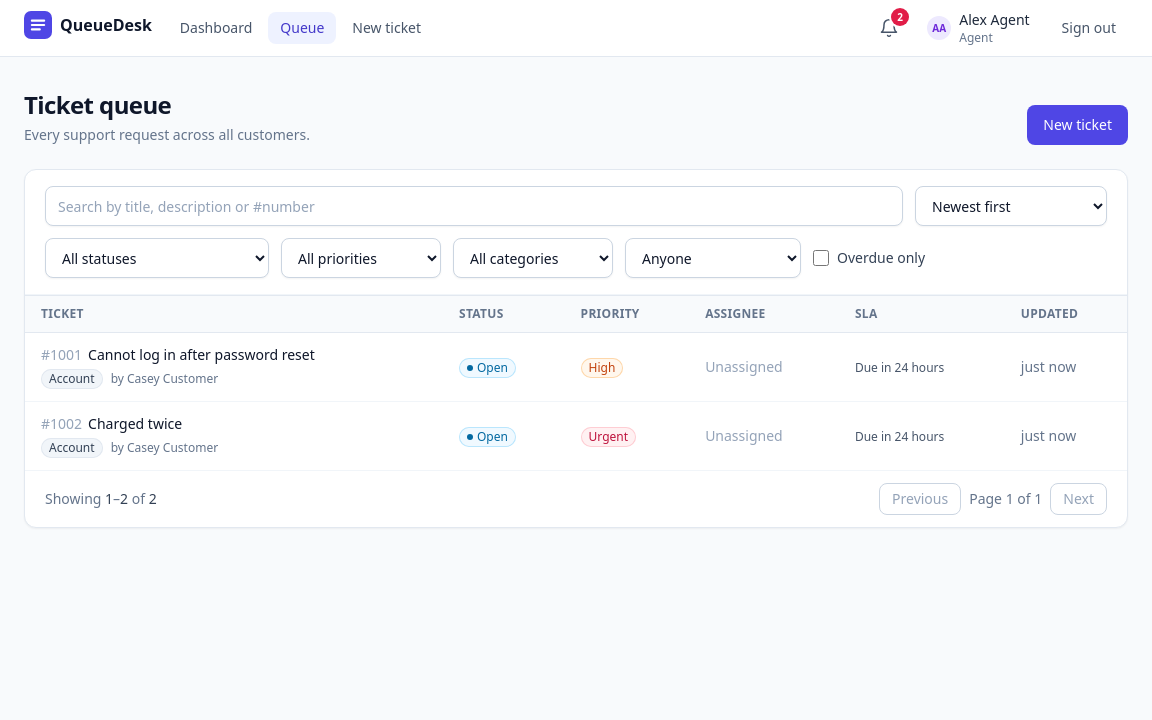
Test: notification bell › opens a panel listing notifications and filters to unread
Click the button named "notifications, 2 unread": (889, 28) x1=871 y1=10 x2=907 y2=46
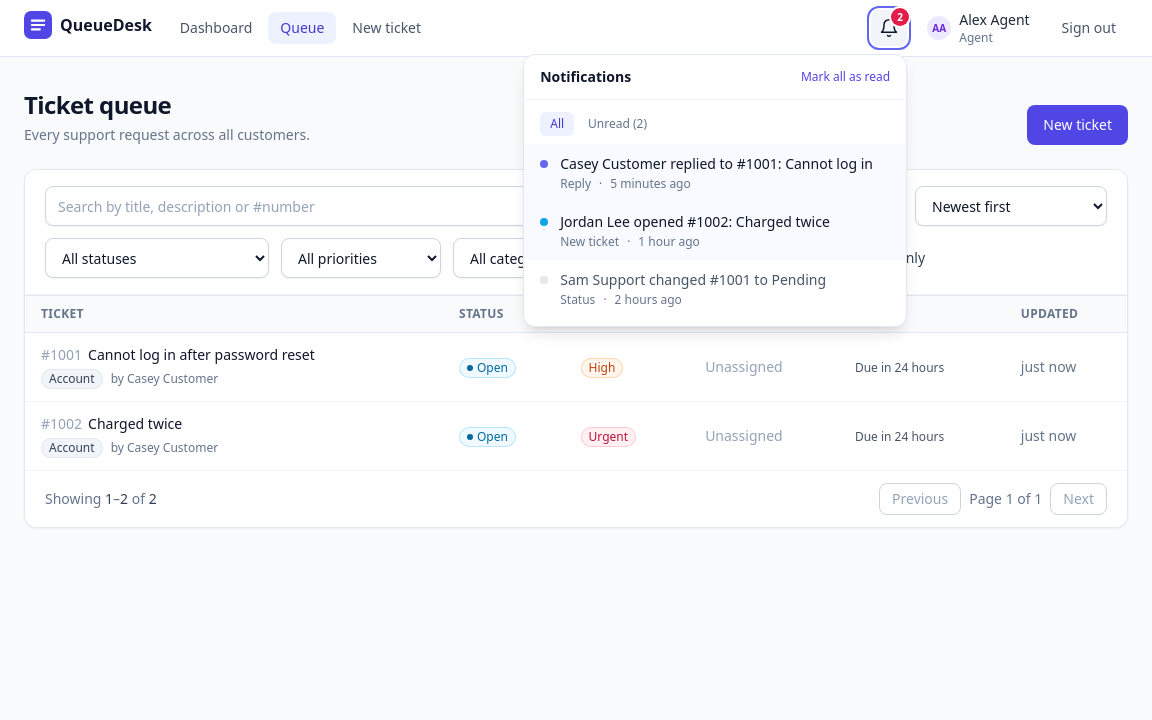
Expected: the number of list items is 3, x1=524 y1=144 x2=906 y2=202; x1=524 y1=202 x2=906 y2=260; x1=524 y1=260 x2=906 y2=318
Click the tab "Unread (2)": (618, 124) x1=578 y1=112 x2=657 y2=136
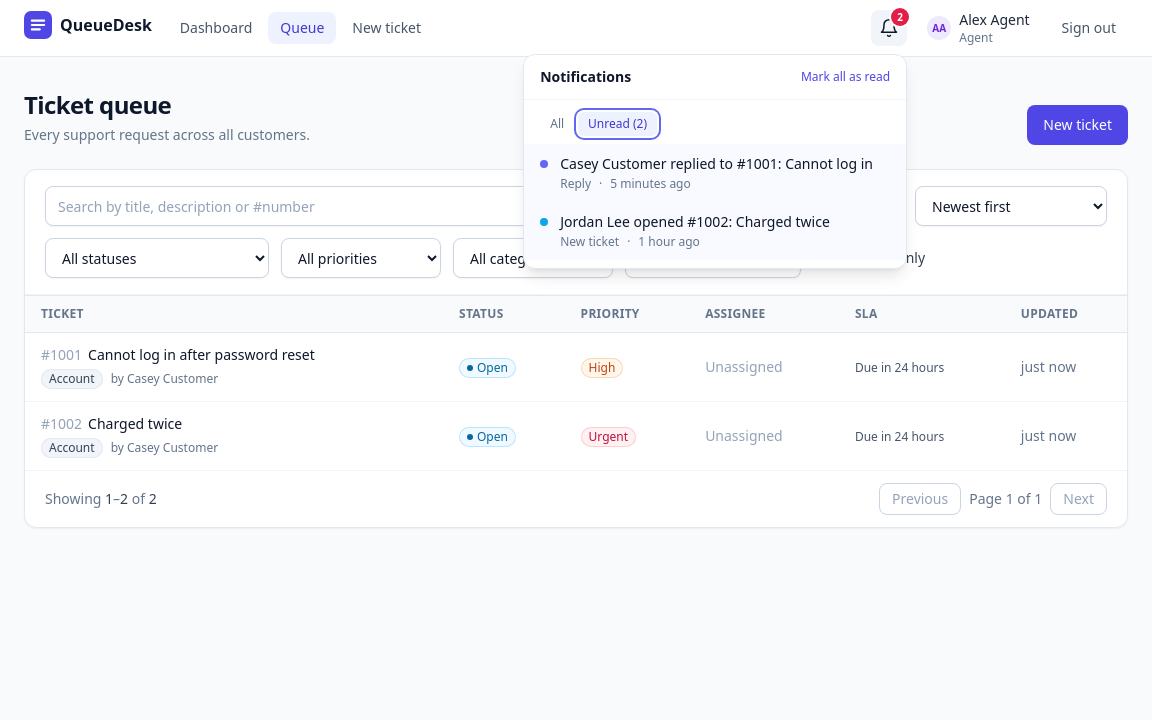
Expected: the text "Jordan Lee opened #1002: Charged twice" is shown, x1=560 y1=212 x2=830 y2=231
Expected: the button "changed #1001 to Pending" is gone
